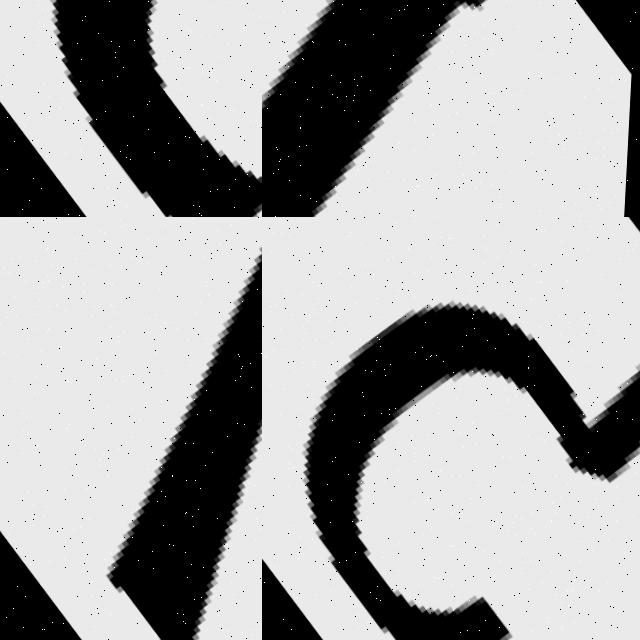5: (262, 217, 640, 640), (0, 0, 262, 217)
7: (0, 217, 262, 640)
L: (262, 0, 640, 217)
